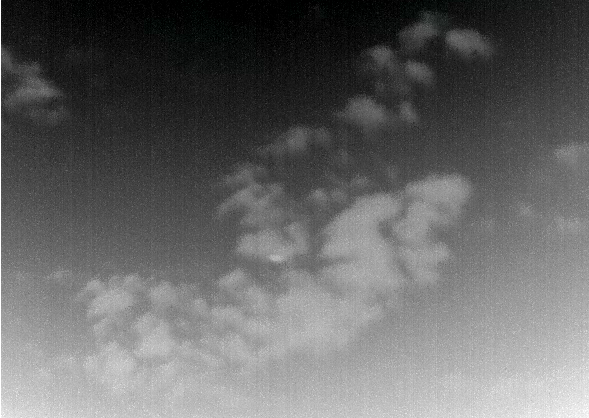dim target: (269, 254, 283, 261)
